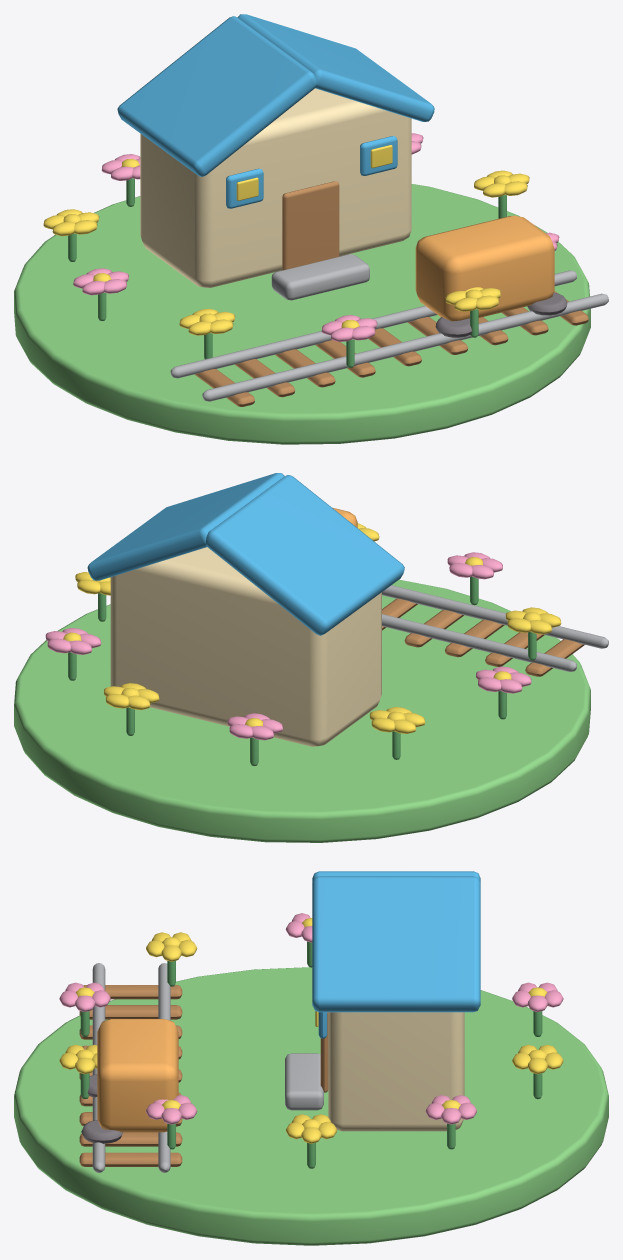
The model's file is region_station.glb.
3 renders of one model, top to bottom at view 1: azimuth 30°, elevation 25°; view 2: azimuth 150°, elevation 25°; view 3: azimuth 270°, elevation 25°, orthographic. The views are drawn at different scales.
Visible parts, largest first — view 1: round grassy plot, rounded plaster walls, overlapping roof tiles, goods carriage, overlapping roof tiles.001, steel rail, arched entry, steel rail.001, stone threshold, blue shutter window.001, blue shutter window, rail sleeper.002 (+7 smaller); view 2: round grassy plot, rounded plaster walls, overlapping roof tiles, overlapping roof tiles.001, steel rail.001, steel rail, rail sleeper, rail sleeper.003, rail sleeper.002, rail sleeper.001; view 3: round grassy plot, overlapping roof tiles.001, rounded plaster walls, goods carriage, stone threshold, steel rail, rail sleeper.008, steel rail.001, rail sleeper.001, rail sleeper, overlapping roof tiles, rail sleeper.007 (+2 smaller).
Part boxes in pixels (<box>): round grassy plot: <box>14,184,590,444</box>; rounded plaster walls: <box>140,88,411,287</box>; overlapping roof tiles: <box>117,16,316,176</box>; goods carriage: <box>415,215,554,321</box>; overlapping roof tiles.001: <box>237,14,434,121</box>; steel rail: <box>202,293,608,401</box>; arched entry: <box>282,181,339,270</box>; steel rail.001: <box>170,270,576,378</box>; stone threshold: <box>271,254,369,300</box>; blue shutter window.001: <box>226,168,263,208</box>; blue shutter window: <box>360,136,397,175</box>; rail sleeper.002: <box>275,349,335,387</box>; round grassy plot: <box>14,579,590,842</box>; rounded plaster walls: <box>110,547,381,746</box>; overlapping roof tiles: <box>206,475,404,635</box>; overlapping roof tiles.001: <box>87,473,284,580</box>; steel rail.001: <box>382,614,576,671</box>; steel rail: <box>382,585,608,648</box>; rail sleeper: <box>525,639,584,676</box>; rail sleeper.003: <box>404,610,463,647</box>; rail sleeper.002: <box>445,619,504,657</box>; rail sleeper.001: <box>485,632,544,666</box>; round grassy plot: <box>14,967,608,1245</box>; overlapping roof tiles.001: <box>312,876,480,1012</box>; rounded plaster walls: <box>328,1012,464,1131</box>; goods carriage: <box>97,1019,178,1132</box>; stone threshold: <box>285,1053,323,1110</box>; steel rail: <box>92,963,105,1172</box>; rail sleeper.008: <box>79,1152,182,1166</box>; steel rail.001: <box>158,963,170,1172</box>; rail sleeper.001: <box>79,1005,182,1019</box>; rail sleeper: <box>83,985,182,999</box>; overlapping roof tiles: <box>312,871,480,882</box>; rail sleeper.007: <box>79,1132,182,1146</box>.
Size of the model in its own units: 3.36 by 1.59 by 3.36.
